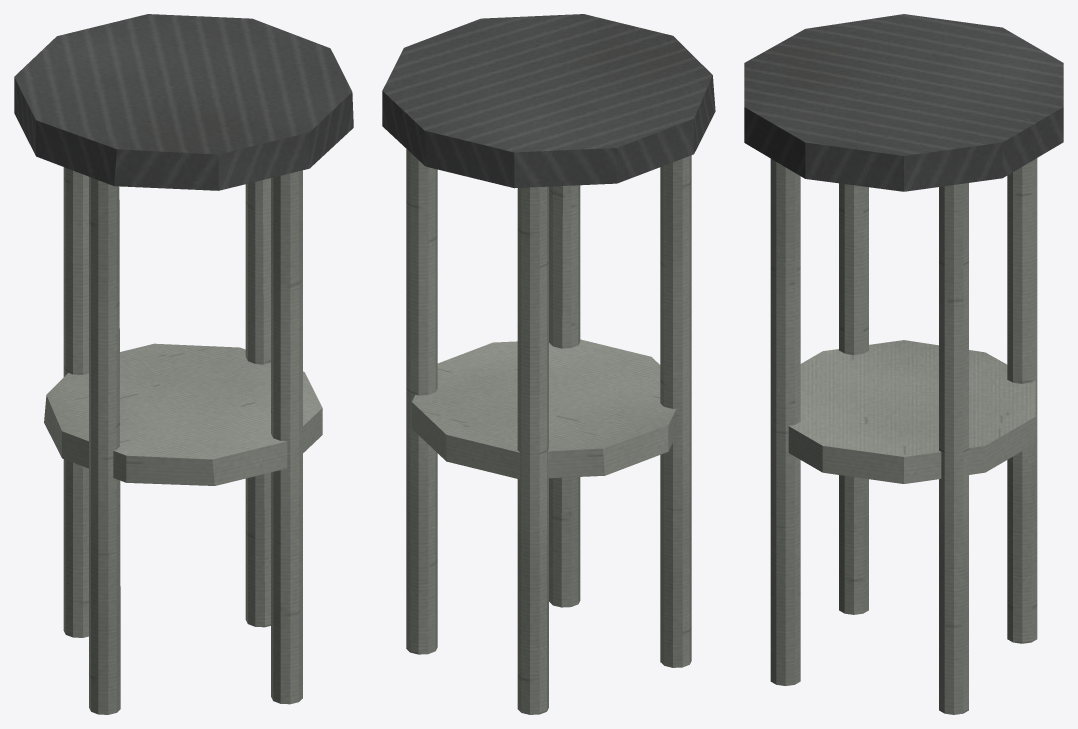
File: stool_v3.glb
3 views of the same model, side by side, from view 1: azimuth 30°, elevation 25°; view 2: azimuth 150°, elevation 25°; view 3: azimuth 270°, elevation 25° (orthographic).
Parts seen in each view (by area): view 1: Variant_stool_3; view 2: Variant_stool_3; view 3: Variant_stool_3.
Part boxes in pixels (x1,y1,x2,y2): Variant_stool_3: [14, 14, 353, 714]; Variant_stool_3: [382, 14, 715, 714]; Variant_stool_3: [744, 14, 1063, 714].
Bounding box in the file's own units: 0.34 × 0.64 × 0.3234.
2 materials, 2 textured.
